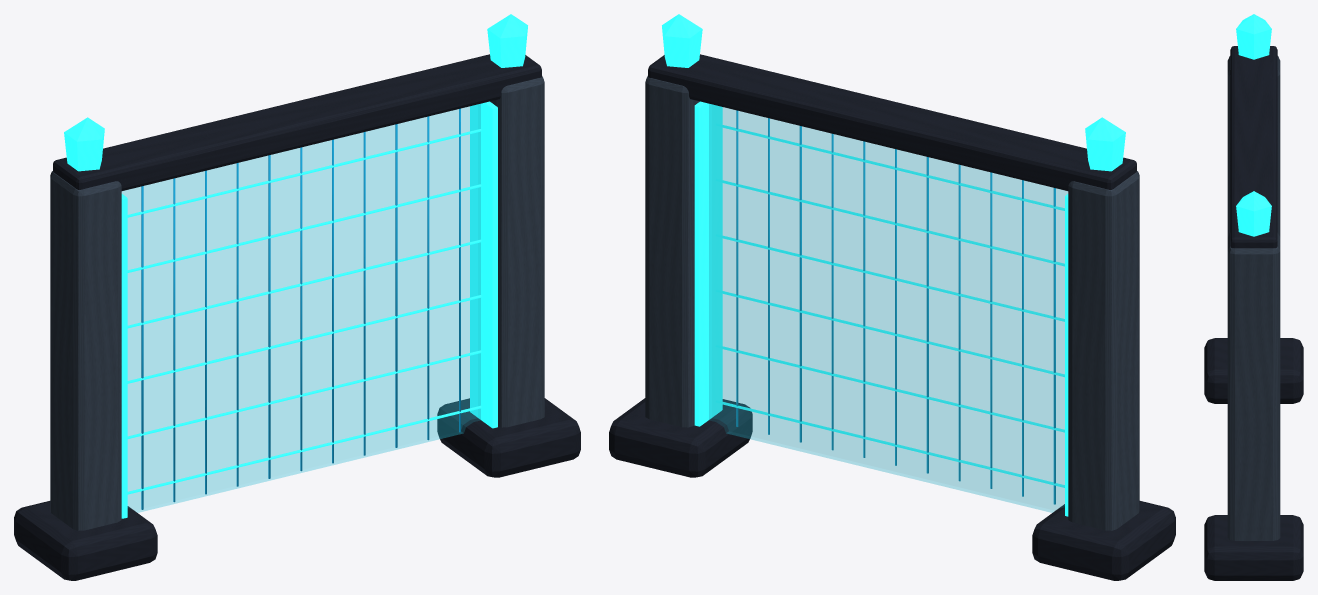
Rendered from EnergyBarrier.fbx.
3 renders of one model, left to right at view 1: azimuth 30°, elevation 25°; view 2: azimuth 150°, elevation 25°; view 3: azimuth 270°, elevation 25°, orthographic. The views are drawn at different scales.
Visible parts, largest first — view 1: SM_EnergyBarrier; view 2: SM_EnergyBarrier; view 3: SM_EnergyBarrier.
Boxes of the visible parts, x1=… form: SM_EnergyBarrier: x1=14, y1=14, x2=580, y2=580; SM_EnergyBarrier: x1=609, y1=14, x2=1175, y2=580; SM_EnergyBarrier: x1=1204, y1=14, x2=1303, y2=580.
Size of the model in its own units: 490 by 95 by 395.
2 materials, 1 textured.
